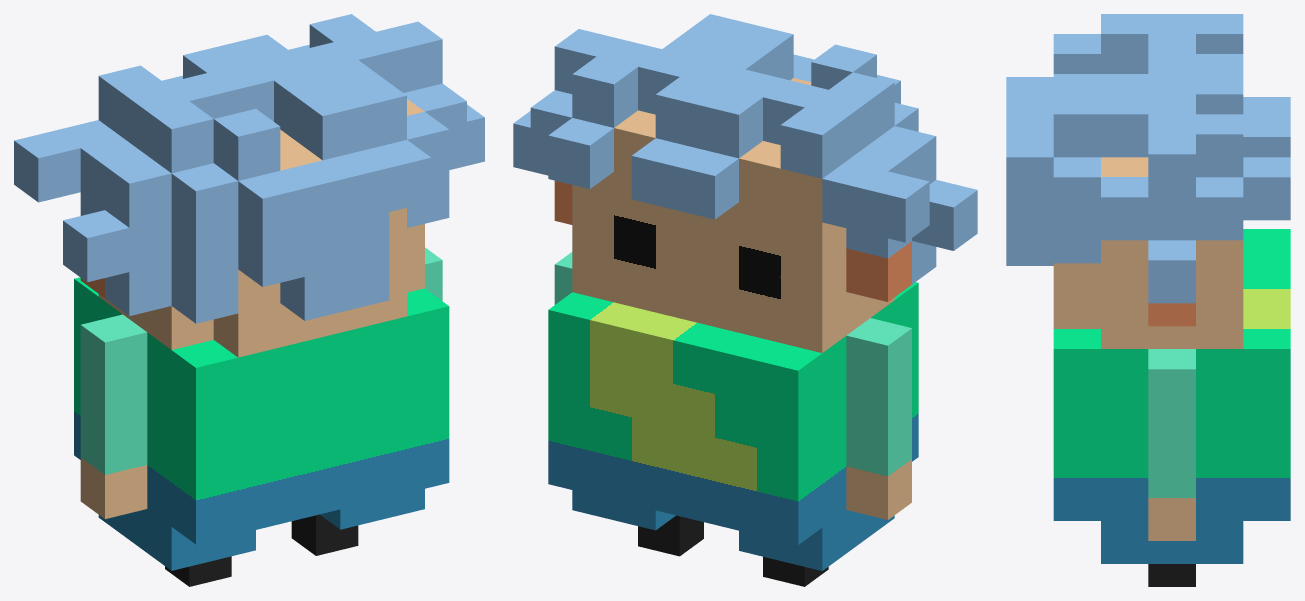
File: chr_raver1.dae
The picture shows the model from 3 angles, left to right: view 1: azimuth 30°, elevation 25°; view 2: azimuth 150°, elevation 25°; view 3: azimuth 270°, elevation 25°; orthographic projection. The views are drawn at different scales.
Visible parts, largest first — view 1: chr_raver1; view 2: chr_raver1; view 3: chr_raver1.
Boxes of the visible parts, x1=… form: chr_raver1: x1=14, y1=14, x2=484, y2=586; chr_raver1: x1=513, y1=14, x2=977, y2=586; chr_raver1: x1=1006, y1=14, x2=1290, y2=586.
Bounding box in the file's own units: 1 × 0.6 × 1.1.
